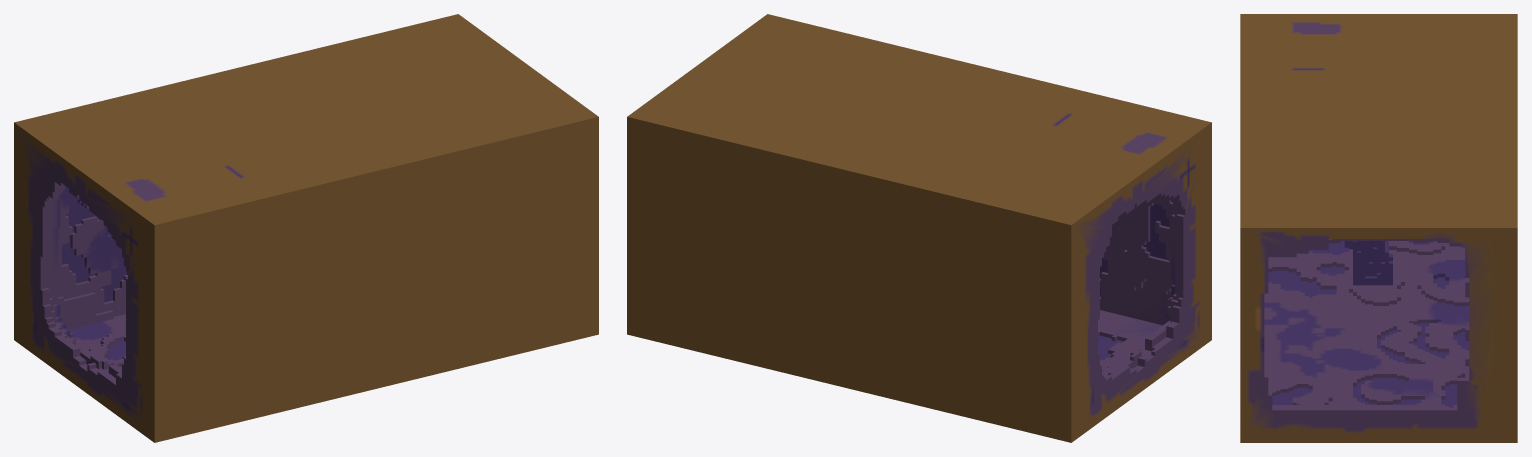
Rendered from Level3_pathway_v5.dae.
3 views of the same model, side by side, from view 1: azimuth 30°, elevation 25°; view 2: azimuth 150°, elevation 25°; view 3: azimuth 270°, elevation 25° (orthographic).
Parts seen in each view (by area): view 1: level3_pathway_v5.level_3_pathway_v5; view 2: level3_pathway_v5.level_3_pathway_v5; view 3: level3_pathway_v5.level_3_pathway_v5.
Part boxes in pixels (<box>): level3_pathway_v5.level_3_pathway_v5: <box>14,14,598,442</box>; level3_pathway_v5.level_3_pathway_v5: <box>627,14,1211,442</box>; level3_pathway_v5.level_3_pathway_v5: <box>1240,14,1517,442</box>.
Size of the model in its own units: 12.6 by 5.9 by 6.9.
1 material, 1 textured.
